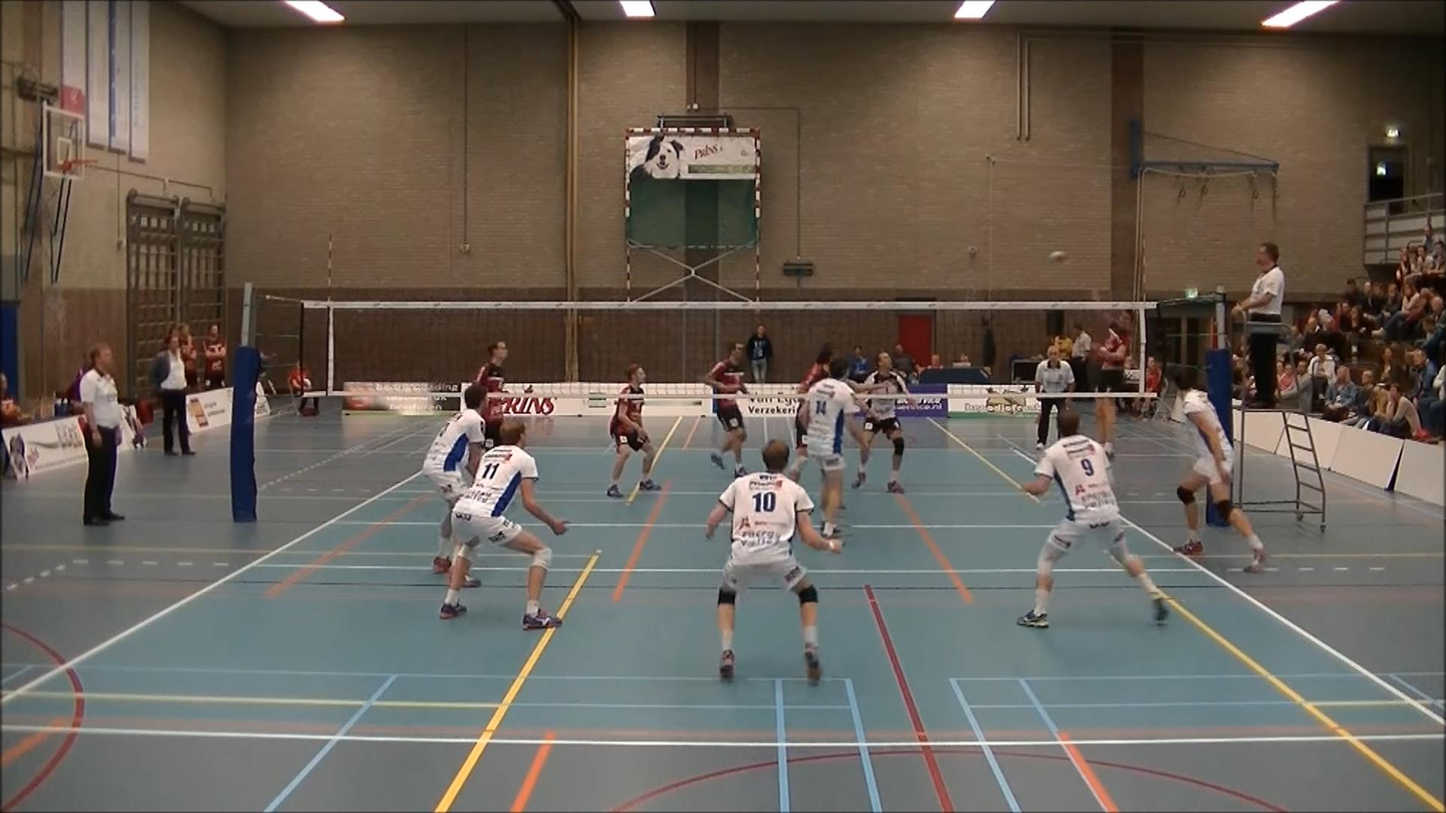attacco: (1081, 272, 1139, 468)
